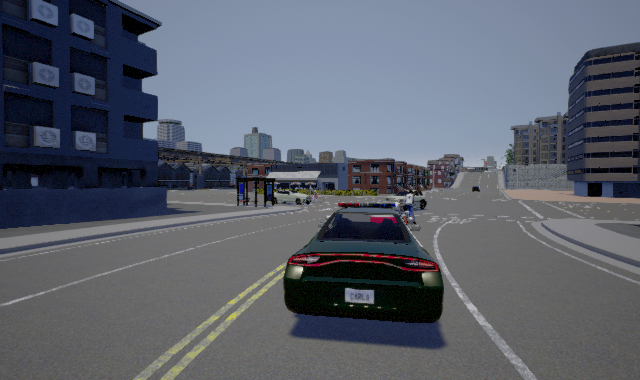bike: (404, 190, 417, 222)
vehicle: (283, 200, 444, 325), (386, 188, 427, 210), (274, 190, 317, 205)
